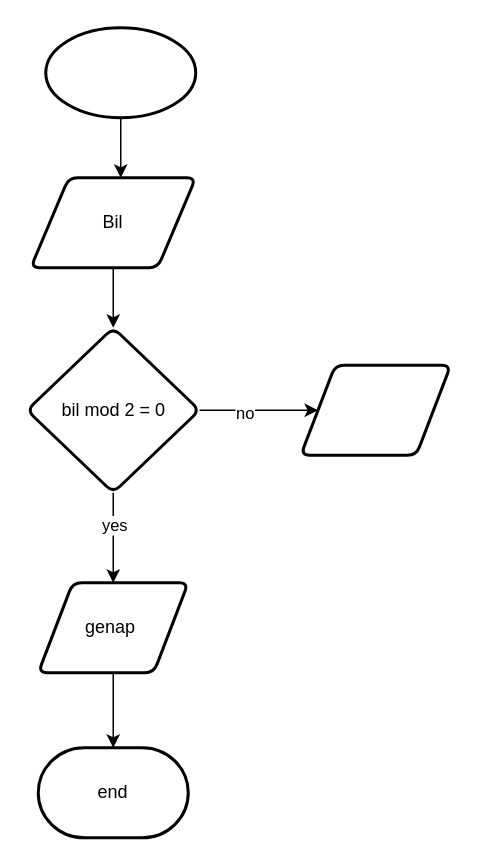
This 479x864 diagram has some shape labels left out. Here are the shapes that lost their labels. From the top down, the box of each, then its label:
(44, 26, 196, 118): Star
(298, 363, 452, 456): ganjil
